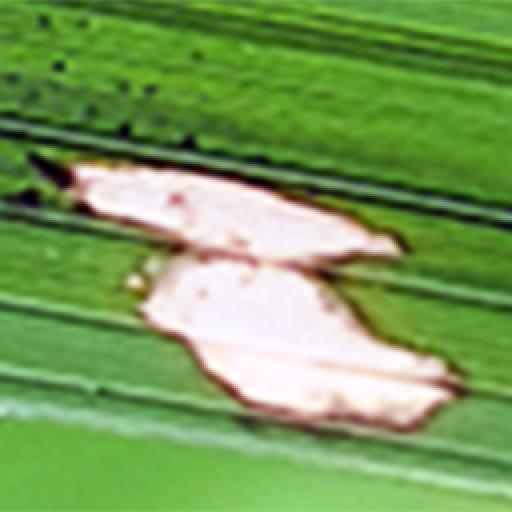Bacterial Leaf Blight: (24, 96, 500, 442)
